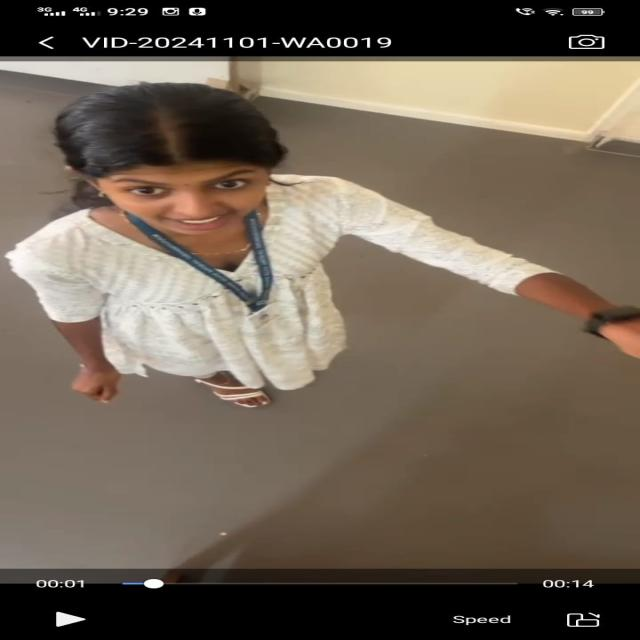humans: (2, 78, 640, 420)
